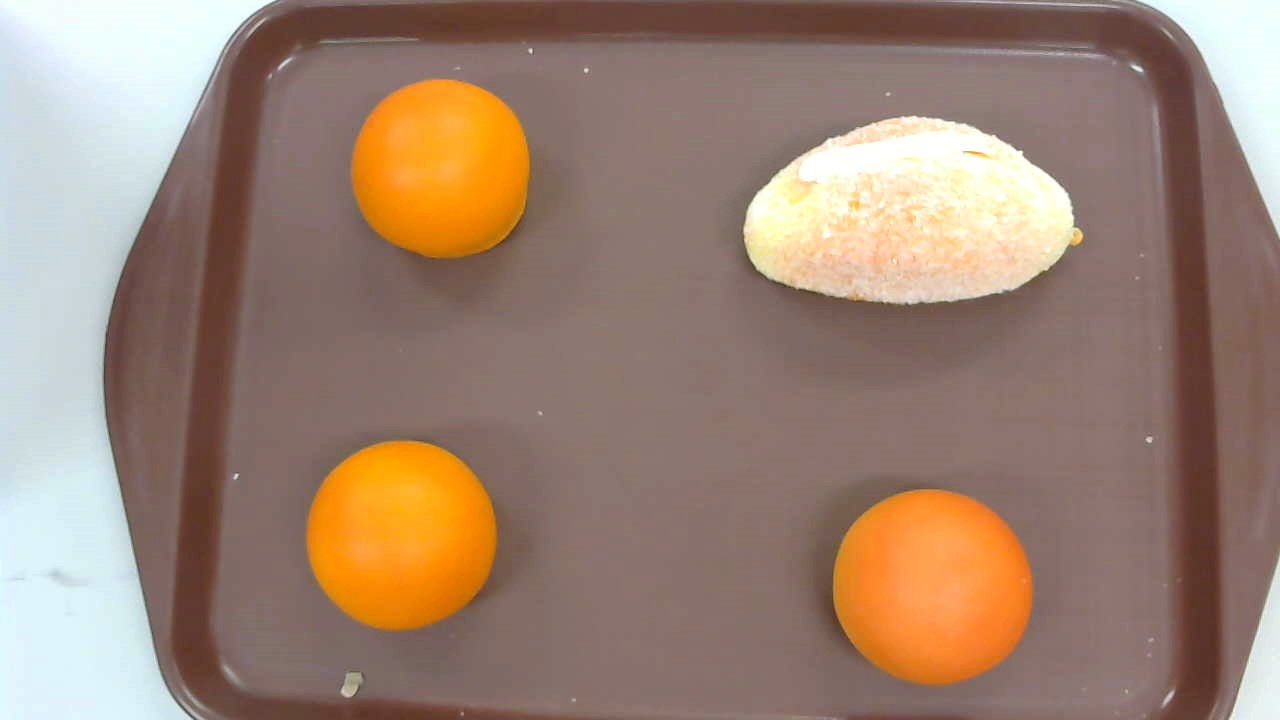bun: (830, 489, 1031, 687), (304, 441, 497, 631), (352, 78, 529, 255)
coconut: (742, 114, 1083, 306)
